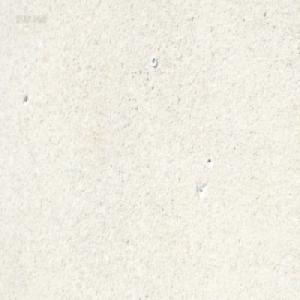Washer: (151, 55, 157, 67)
